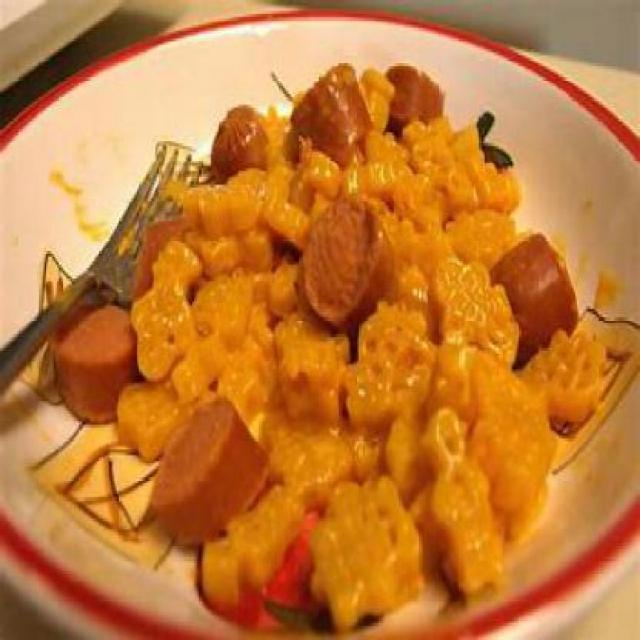hot dog: (214, 57, 452, 172), (58, 212, 185, 425), (151, 392, 267, 533), (301, 191, 394, 323), (495, 224, 583, 356)
macaroni and cheese: (117, 63, 594, 637)
